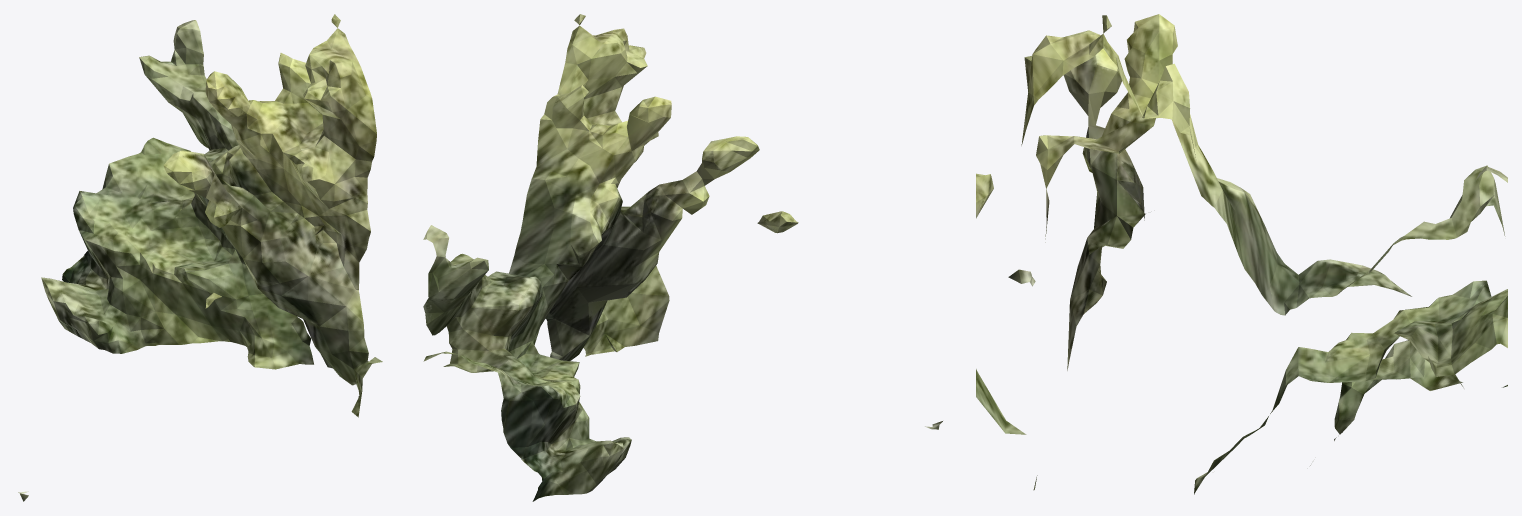
3 renders of one model, left to right at view 1: azimuth 30°, elevation 25°; view 2: azimuth 150°, elevation 25°; view 3: azimuth 270°, elevation 25°, orthographic. The views are drawn at different scales.
Size of the model in its own units: 5.9 by 5.89 by 5.9.
3 materials, 3 textured.
